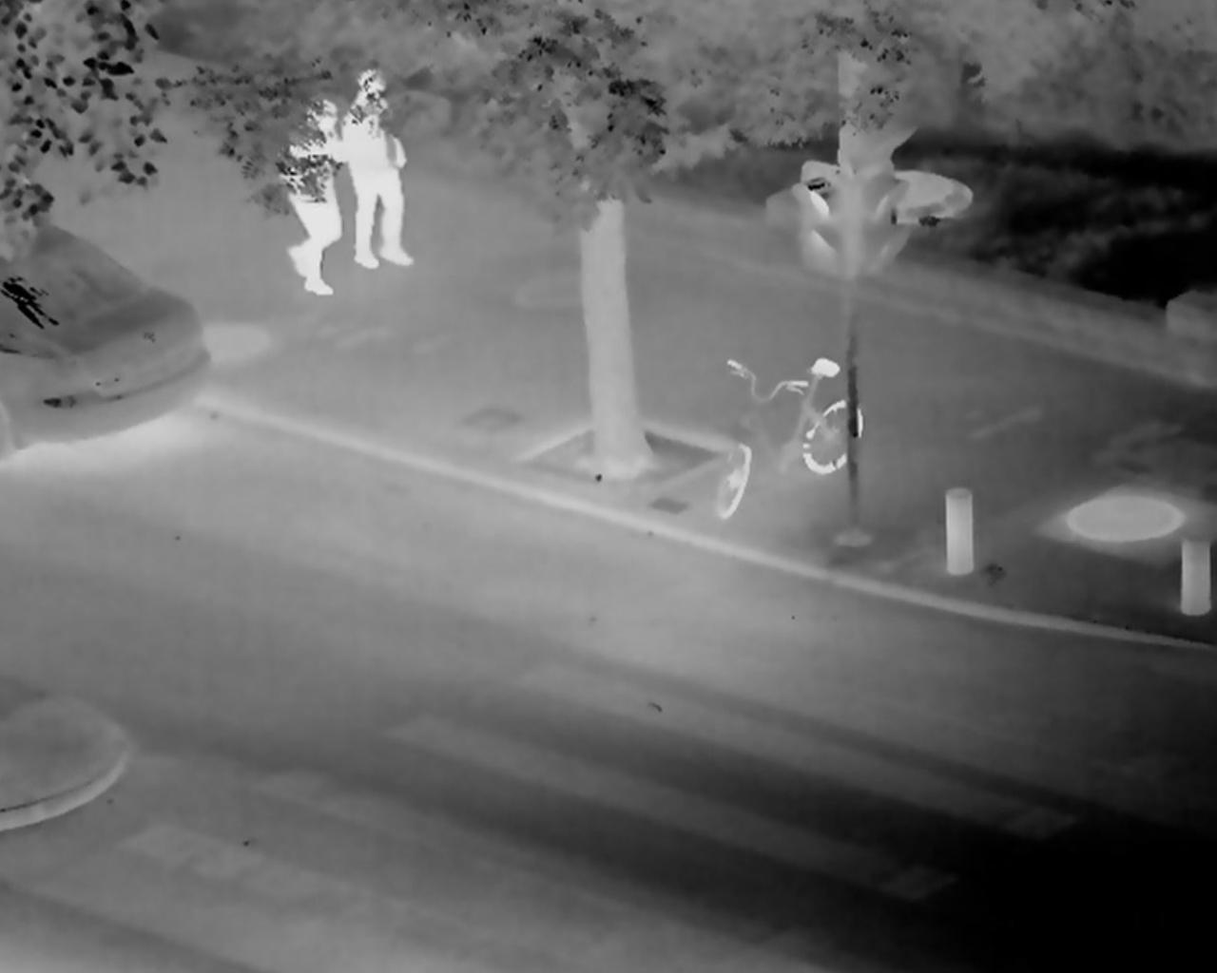person: (338, 65, 413, 273), (280, 99, 341, 297)
